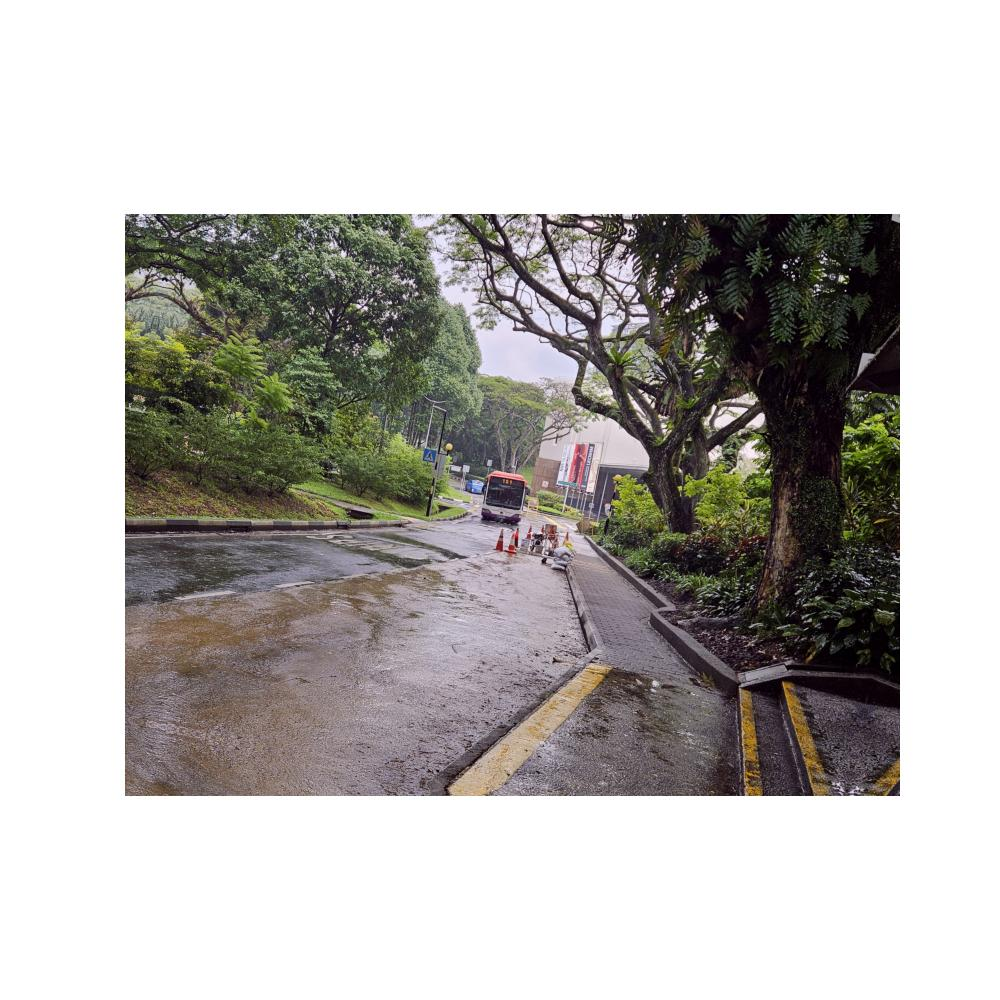bus: (479, 470, 532, 527)
